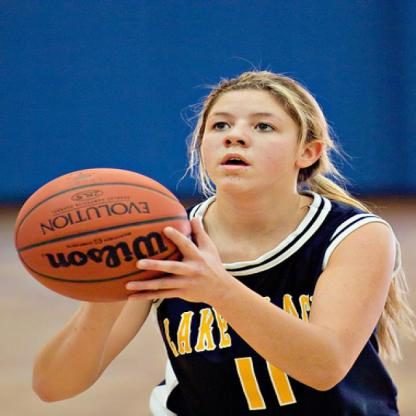basketball: (13, 166, 187, 300)
